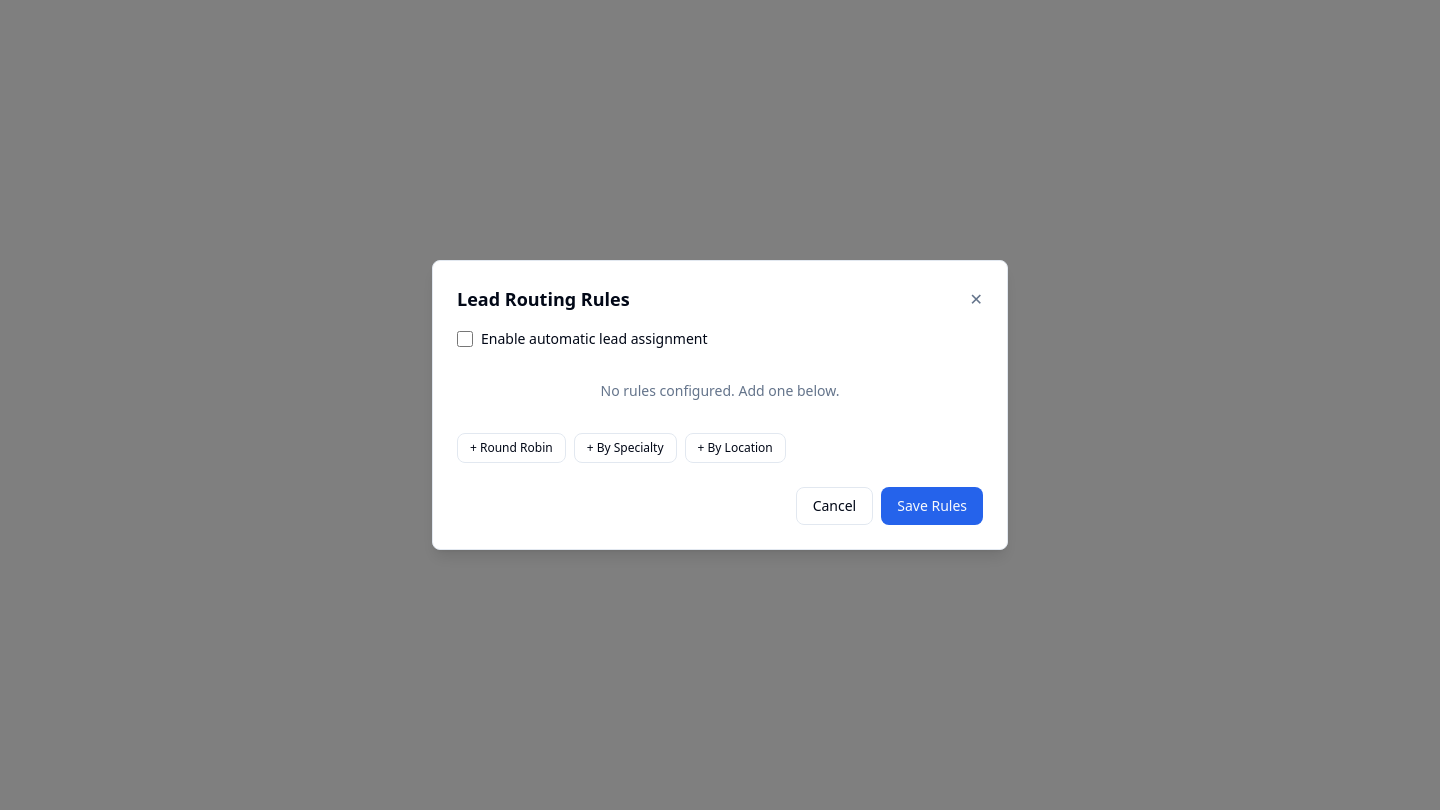
Test: LeadRoutingRules › adds a round-robin rule when button is clicked
This screenshot has width=1440, height=810.
Click the button "+ Round Robin" at (511, 448), box [457,433,566,463]
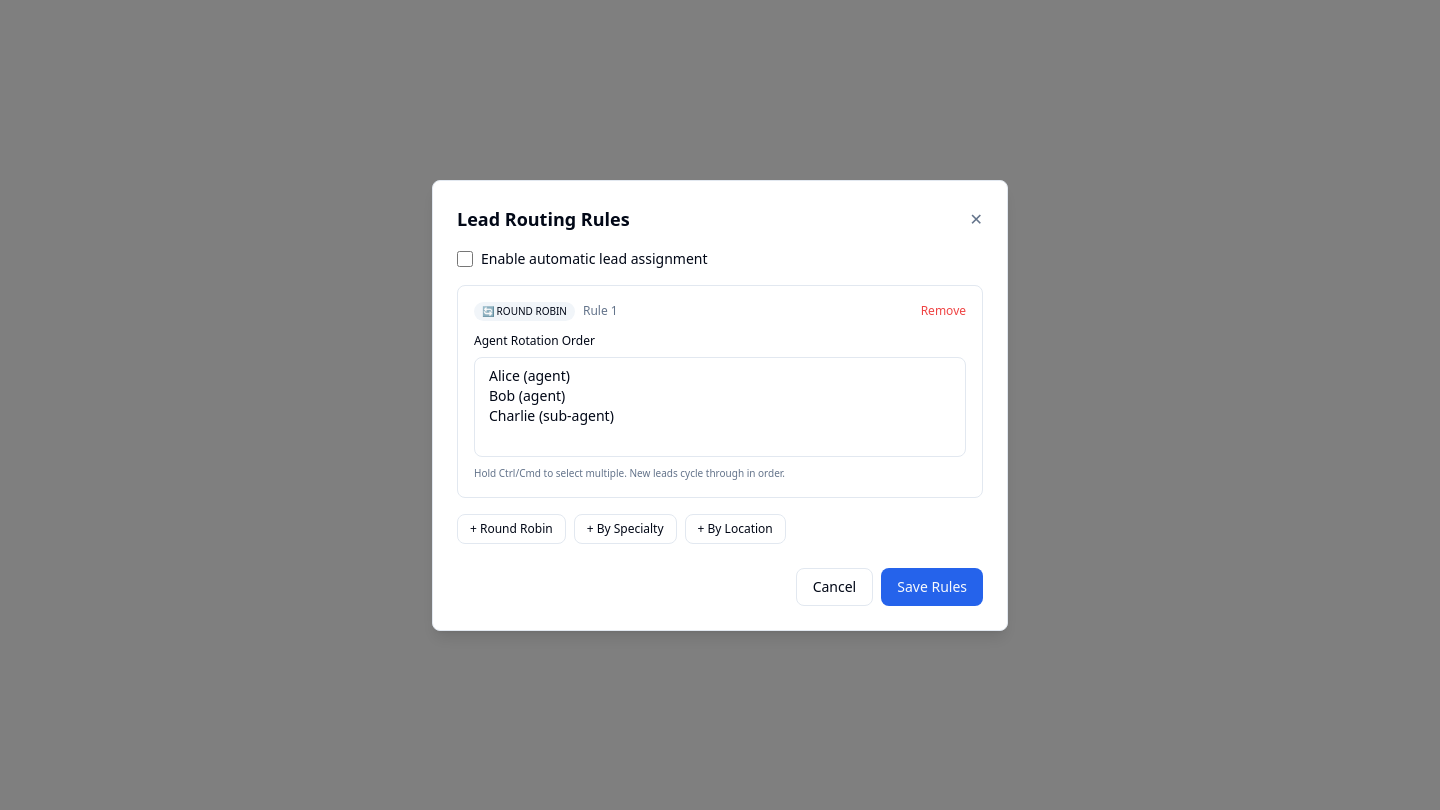
Expected: the text "🔄 Round Robin" is shown, [474,302,575,320]
Expected: the text "Agent Rotation Order" is shown, [474,332,595,348]
